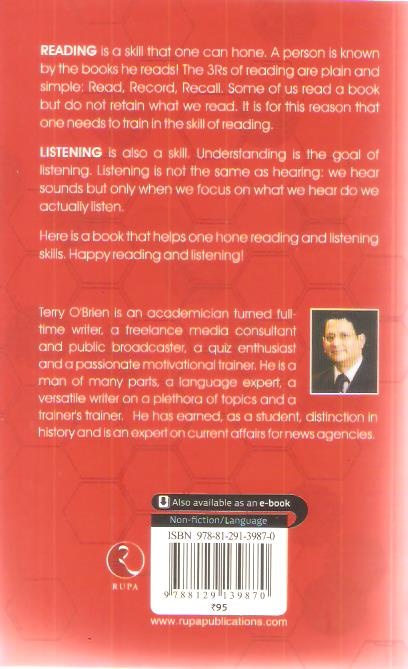barcode: (159, 541, 277, 601)
